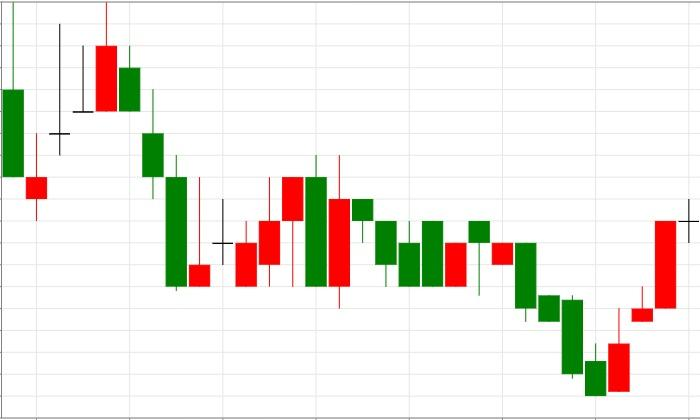inverse_hammer_rise: (119, 46, 211, 291)
three_white_soldiers_rise: (469, 220, 676, 396)
